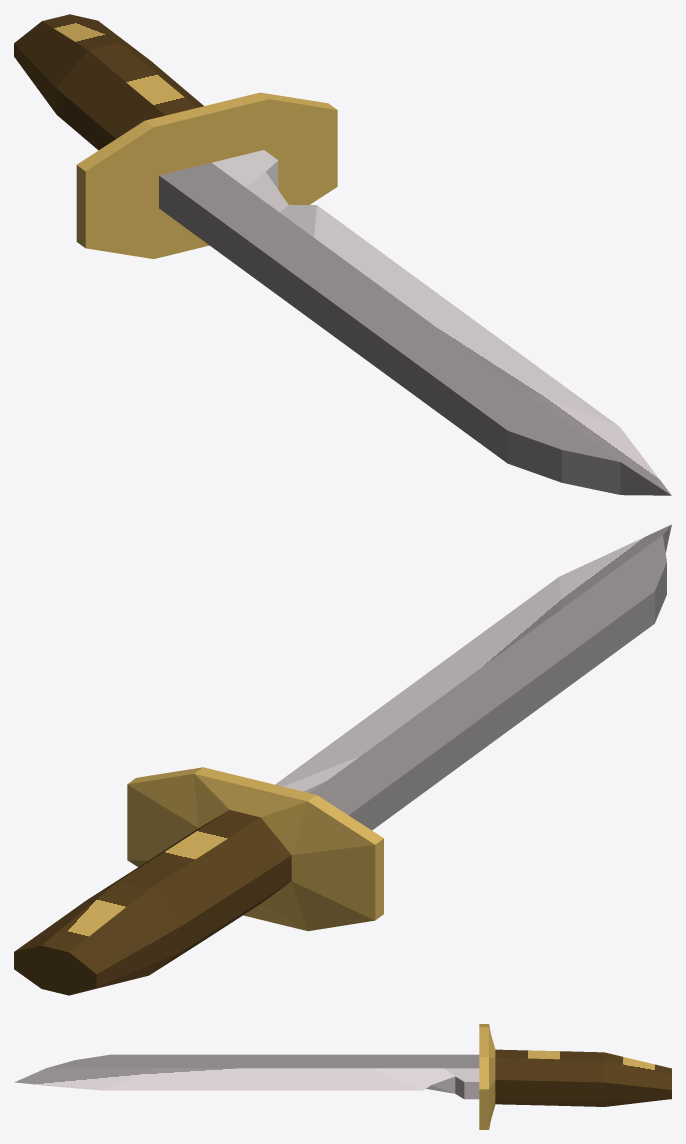
The model's file is knife.fbx.
3 renders of one model, top to bottom at view 1: azimuth 30°, elevation 25°; view 2: azimuth 150°, elevation 25°; view 3: azimuth 270°, elevation 25°, orthographic. The views are drawn at different scales.
Visible parts, largest first — view 1: cuboid, cuboid_1, cuboid_2; view 2: cuboid, cuboid_1, cuboid_2; view 3: cuboid, cuboid_2, cuboid_1.
Boxes of the visible parts, x1=… form: cuboid: x1=14, y1=14, x2=337, y2=258; cuboid_1: x1=159, y1=162, x2=620, y2=494; cuboid_2: x1=212, y1=150, x2=671, y2=495; cuboid: x1=14, y1=767, x2=383, y2=995; cuboid_1: x1=310, y1=535, x2=666, y2=830; cuboid_2: x1=275, y1=524, x2=671, y2=792; cuboid: x1=479, y1=1024, x2=671, y2=1129; cuboid_2: x1=14, y1=1068, x2=479, y2=1099; cuboid_1: x1=46, y1=1054, x2=479, y2=1068.
Size of the model in its own units: 30 by 15 by 128.
1 material, 1 textured.
